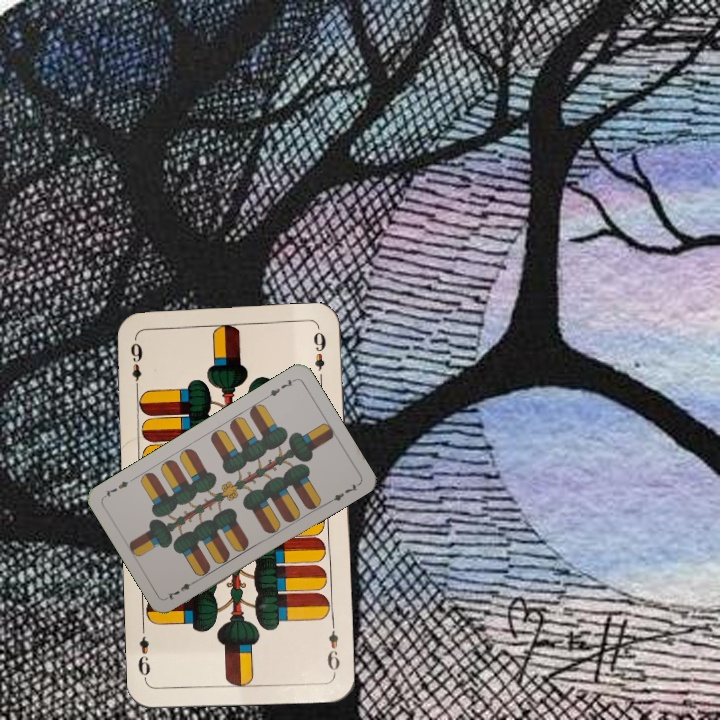E7: (261, 375, 298, 401), (163, 576, 199, 602)
E9: (323, 617, 342, 676), (126, 334, 145, 393)
